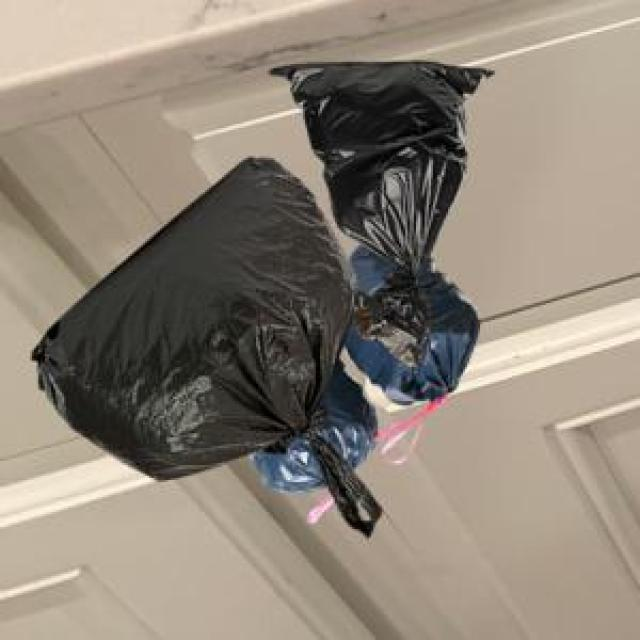Vinyl: (32, 61, 489, 536)
